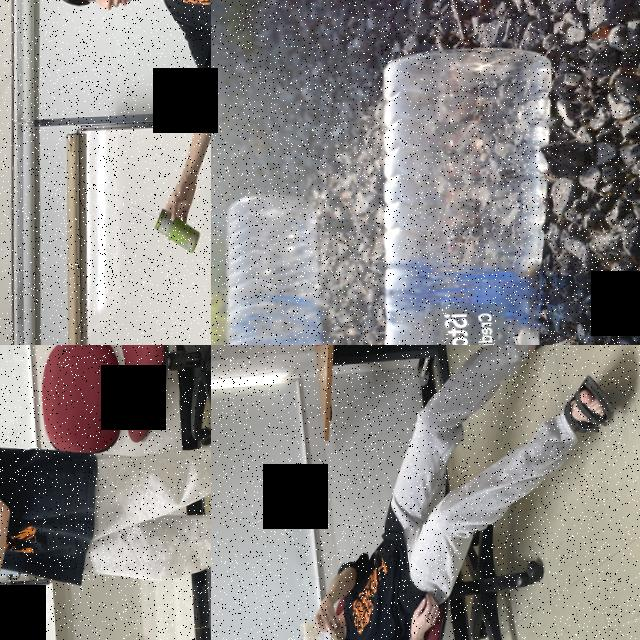bottle: (375, 43, 568, 345)
can: (150, 205, 202, 255)
cup: (299, 614, 344, 640)
